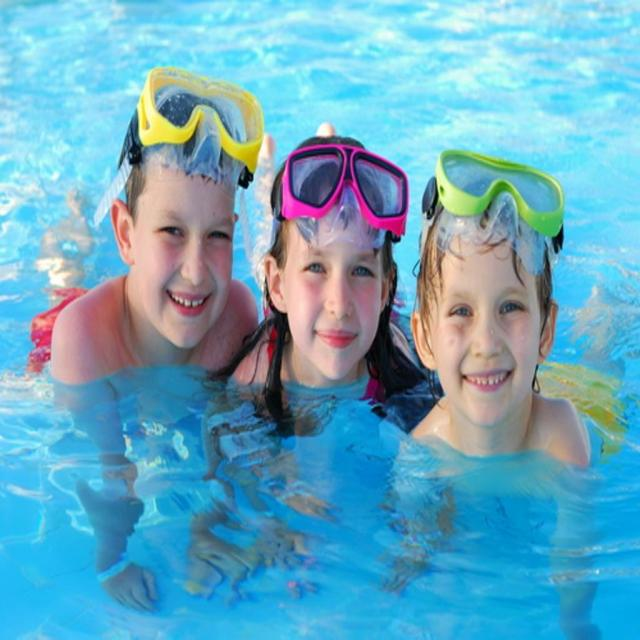nomask: (140, 145, 238, 343), (288, 185, 382, 372), (435, 250, 534, 423)
